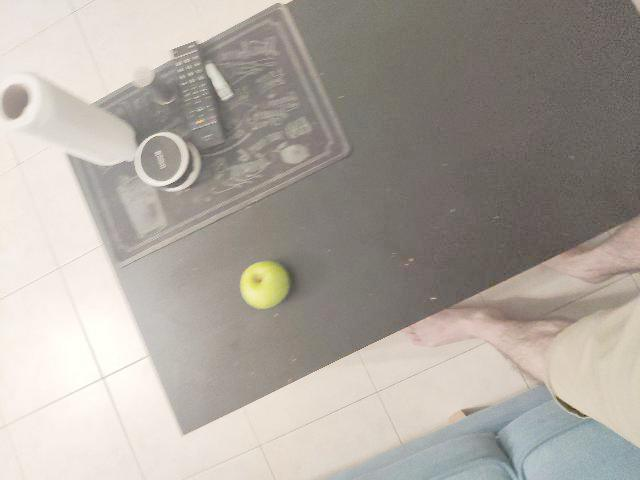apple: (166, 236, 220, 301)
